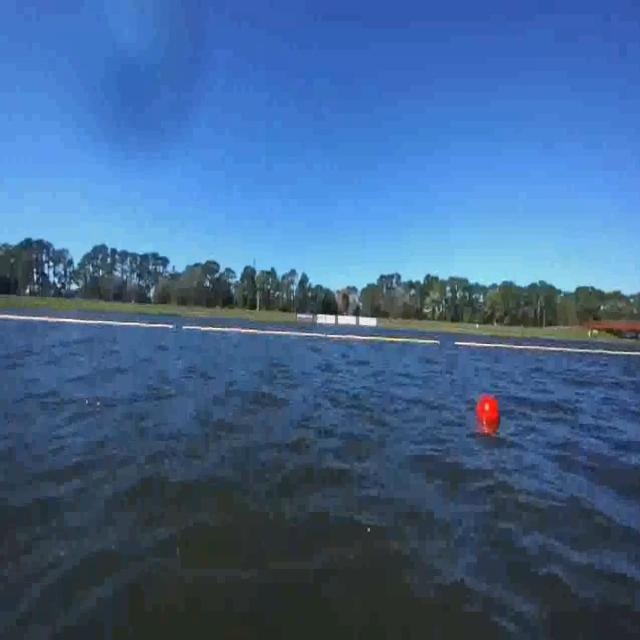red-buoy: (478, 398, 500, 428)
